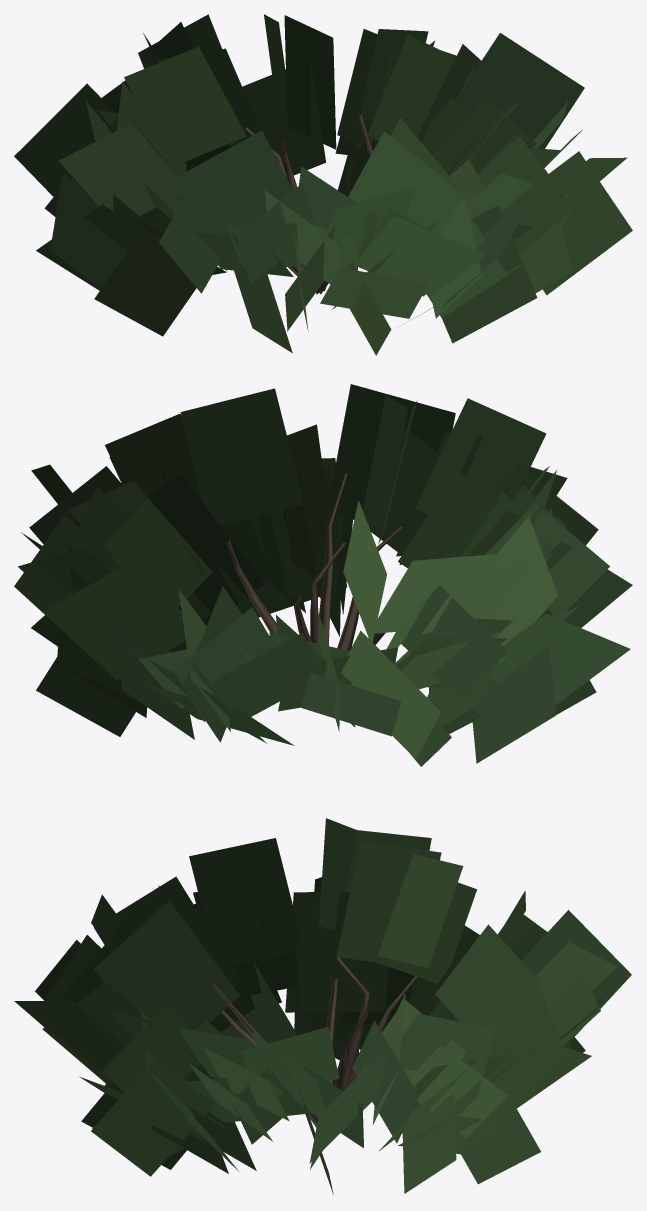
Rendered from shrub.juniper.green.glb.
3 renders of one model, top to bottom at view 1: azimuth 30°, elevation 25°; view 2: azimuth 150°, elevation 25°; view 3: azimuth 270°, elevation 25°, orthographic. The views are drawn at different scales.
Parts seen in each view (by area): view 1: shrub_juniper_green; view 2: shrub_juniper_green; view 3: shrub_juniper_green.
Boxes of the visible parts, bbox=[...] form: shrub_juniper_green: bbox=[14, 14, 632, 355]; shrub_juniper_green: bbox=[14, 384, 632, 766]; shrub_juniper_green: bbox=[14, 818, 631, 1194].
Size of what is drawn, in the model's own units: 2.37 by 1.03 by 2.31.
